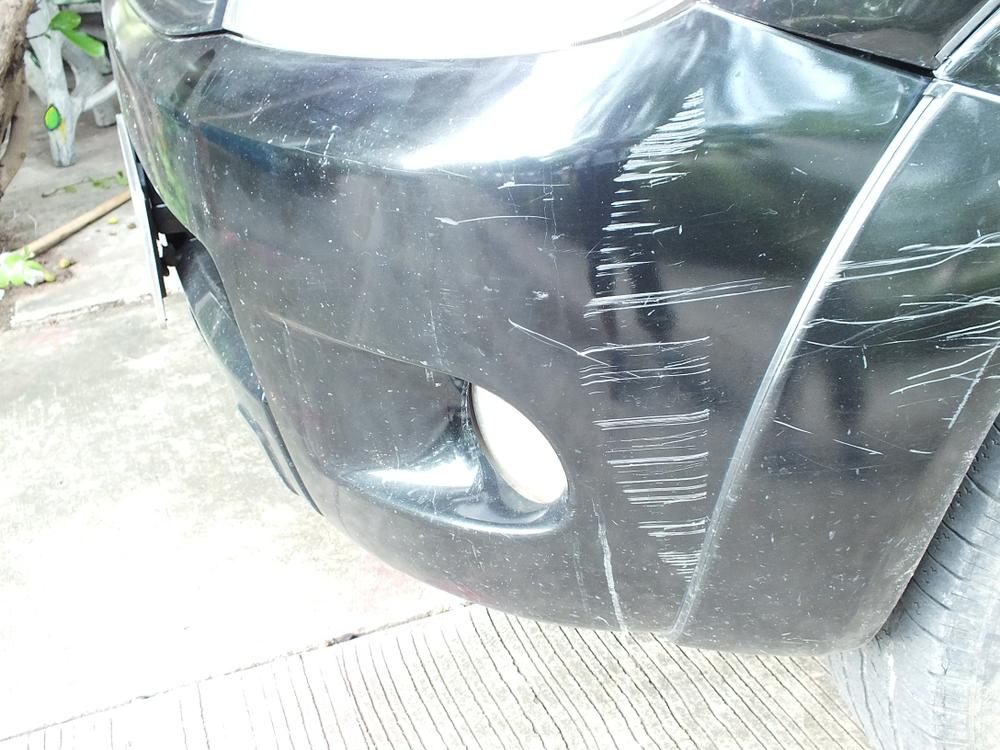scratch: (579, 79, 788, 592), (765, 218, 1000, 463)
